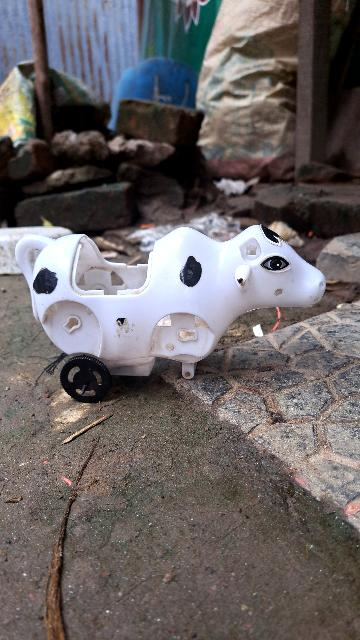hardplastic: (30, 232, 333, 395)
